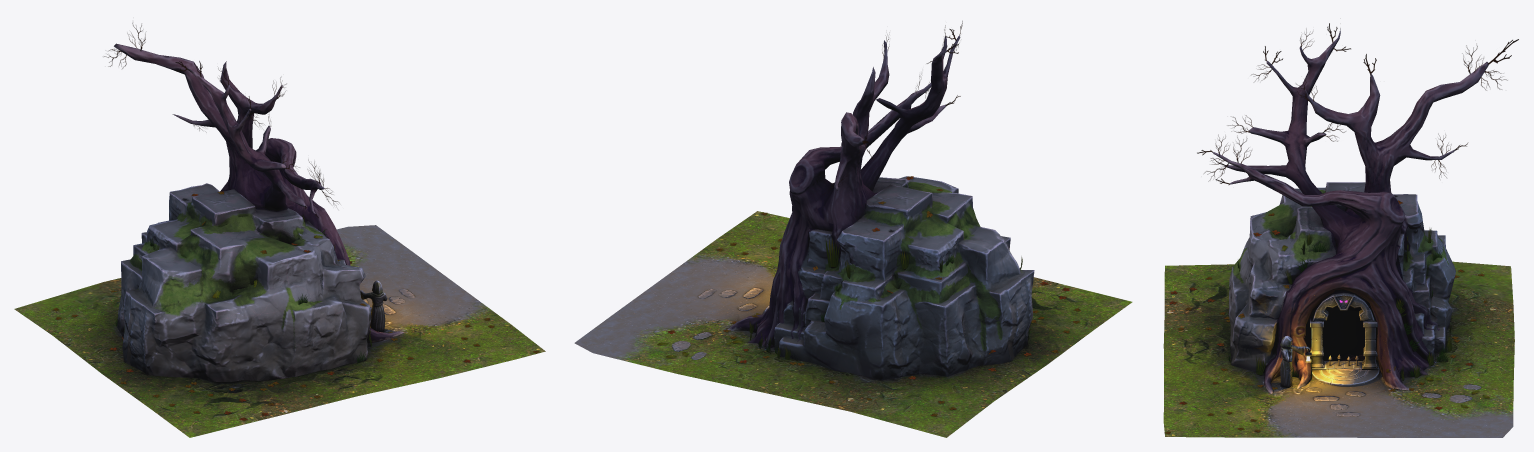
File: entry.glb
3 renders of one model, left to right at view 1: azimuth 30°, elevation 25°; view 2: azimuth 150°, elevation 25°; view 3: azimuth 270°, elevation 25°, orthographic. The views are drawn at different scales.
Visible parts, largest first — view 1: Object_3, Object_5, Object_6; view 2: Object_3, Object_5, Object_6; view 3: Object_3, Object_5, Object_6, Object_2.
Part boxes in pixels (box(x1,y1,x2,y2)): Object_3: box(114, 43, 403, 381); Object_5: box(14, 225, 545, 437); Object_6: box(52, 23, 540, 420); Object_3: box(727, 35, 1034, 379); Object_5: box(574, 211, 1132, 437); Object_6: box(657, 21, 1080, 416); Object_3: box(1212, 28, 1488, 393); Object_5: box(1163, 261, 1514, 437); Object_6: box(1164, 23, 1518, 434); Object_2: box(1310, 290, 1379, 386).
Bounding box in the file's own units: 12.78 × 11.05 × 11.17.
5 materials, 4 textured.
